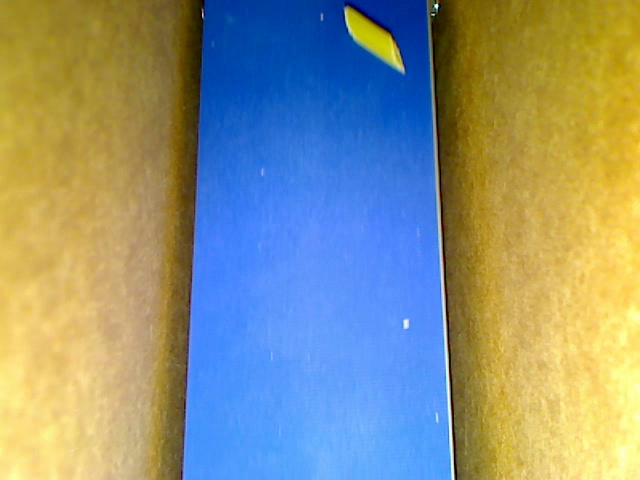penne: (344, 6, 405, 72)
